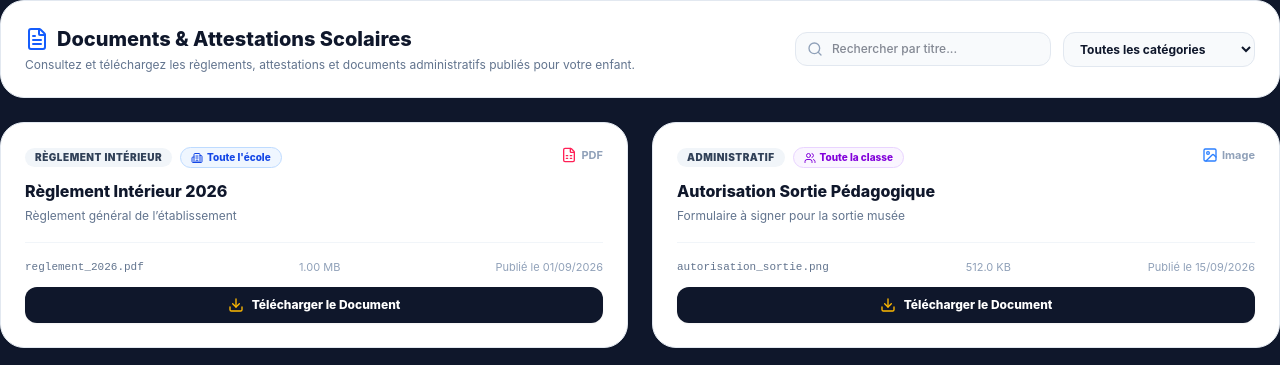
Scenario: ParentDocumentsModule › 5. permet la recherche par titre de document
Expected: the heading "Règlement Intérieur 2026" is shown, top-left (25, 181), bottom-right (227, 201)
In the field with placeholder "Rechercher par titre...": [923, 49] box top-left (795, 32), bottom-right (1051, 66), type "Sortie"
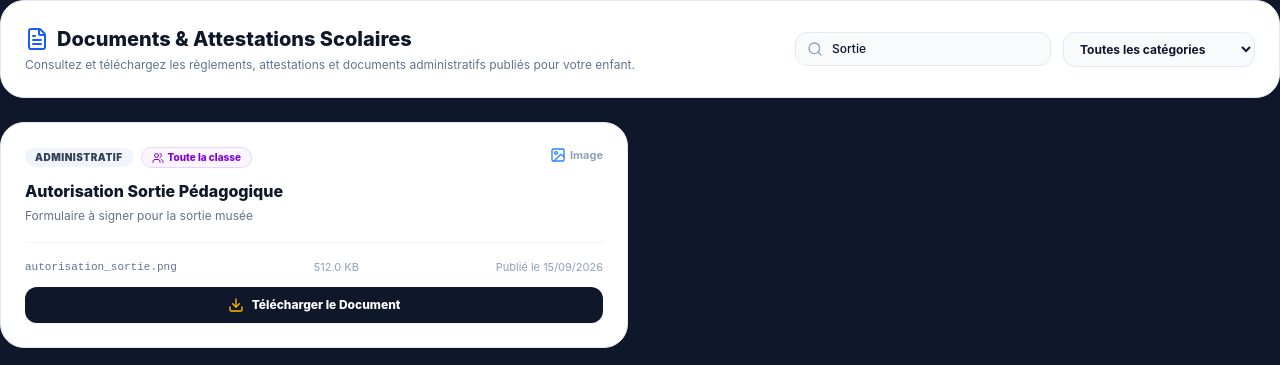
Expected: the heading "Autorisation Sortie Pédagogique" is shown, top-left (25, 181), bottom-right (283, 201)
Expected: the heading "Règlement Intérieur 2026" is gone
